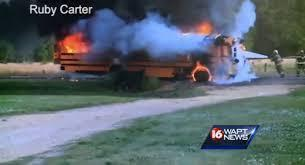fire: (52, 28, 96, 60), (186, 16, 219, 38)
